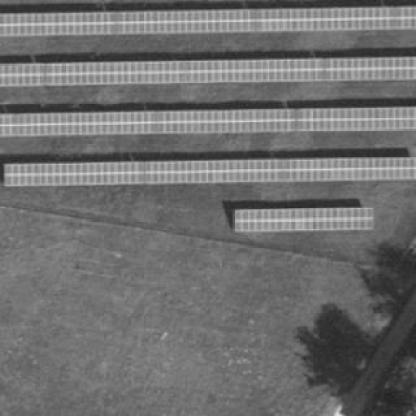solar-pv-panel: (0, 108, 416, 137), (0, 57, 416, 86), (0, 7, 416, 36), (6, 158, 416, 186), (234, 208, 374, 232)
